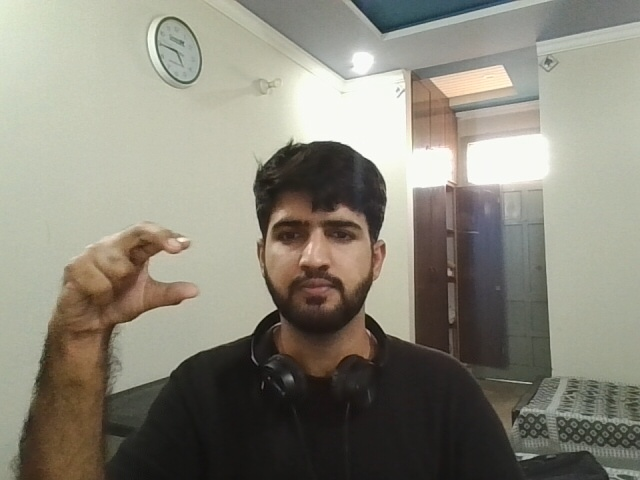No: (47, 211, 229, 348)
